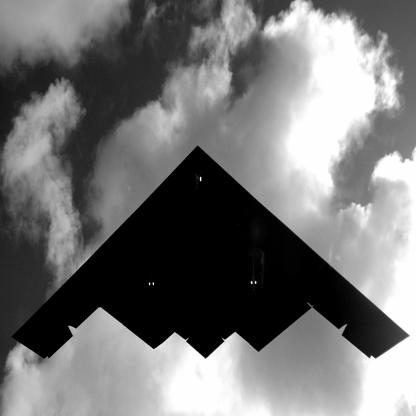B2: (12, 147, 412, 361)
